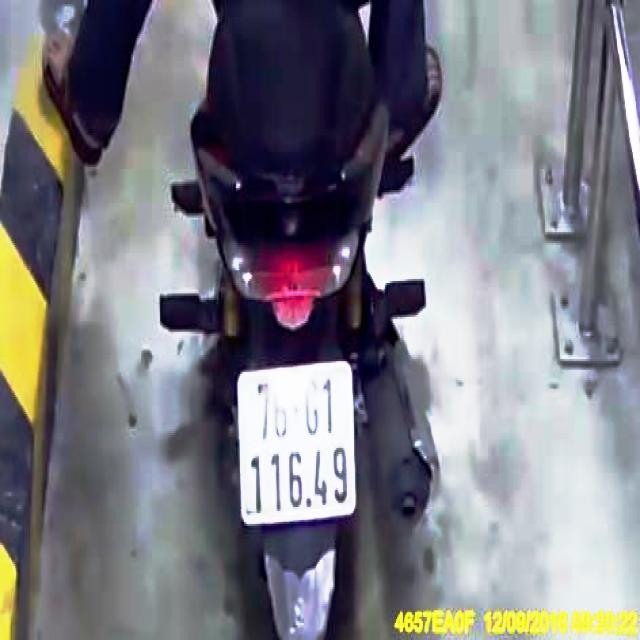license_plate: (240, 365, 358, 522)
